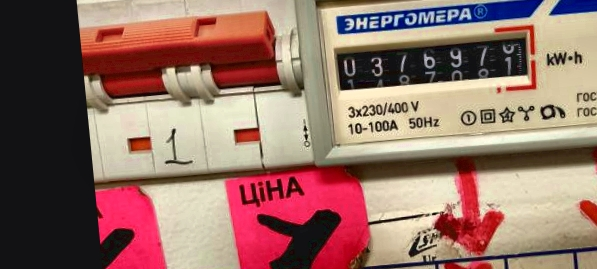0: (340, 54, 357, 77)
1: (502, 54, 513, 77)
3: (368, 54, 383, 77)
6: (420, 45, 437, 69)
7: (394, 49, 410, 73), (474, 41, 490, 65)
9: (447, 45, 463, 68)
screen: (323, 19, 543, 112)
